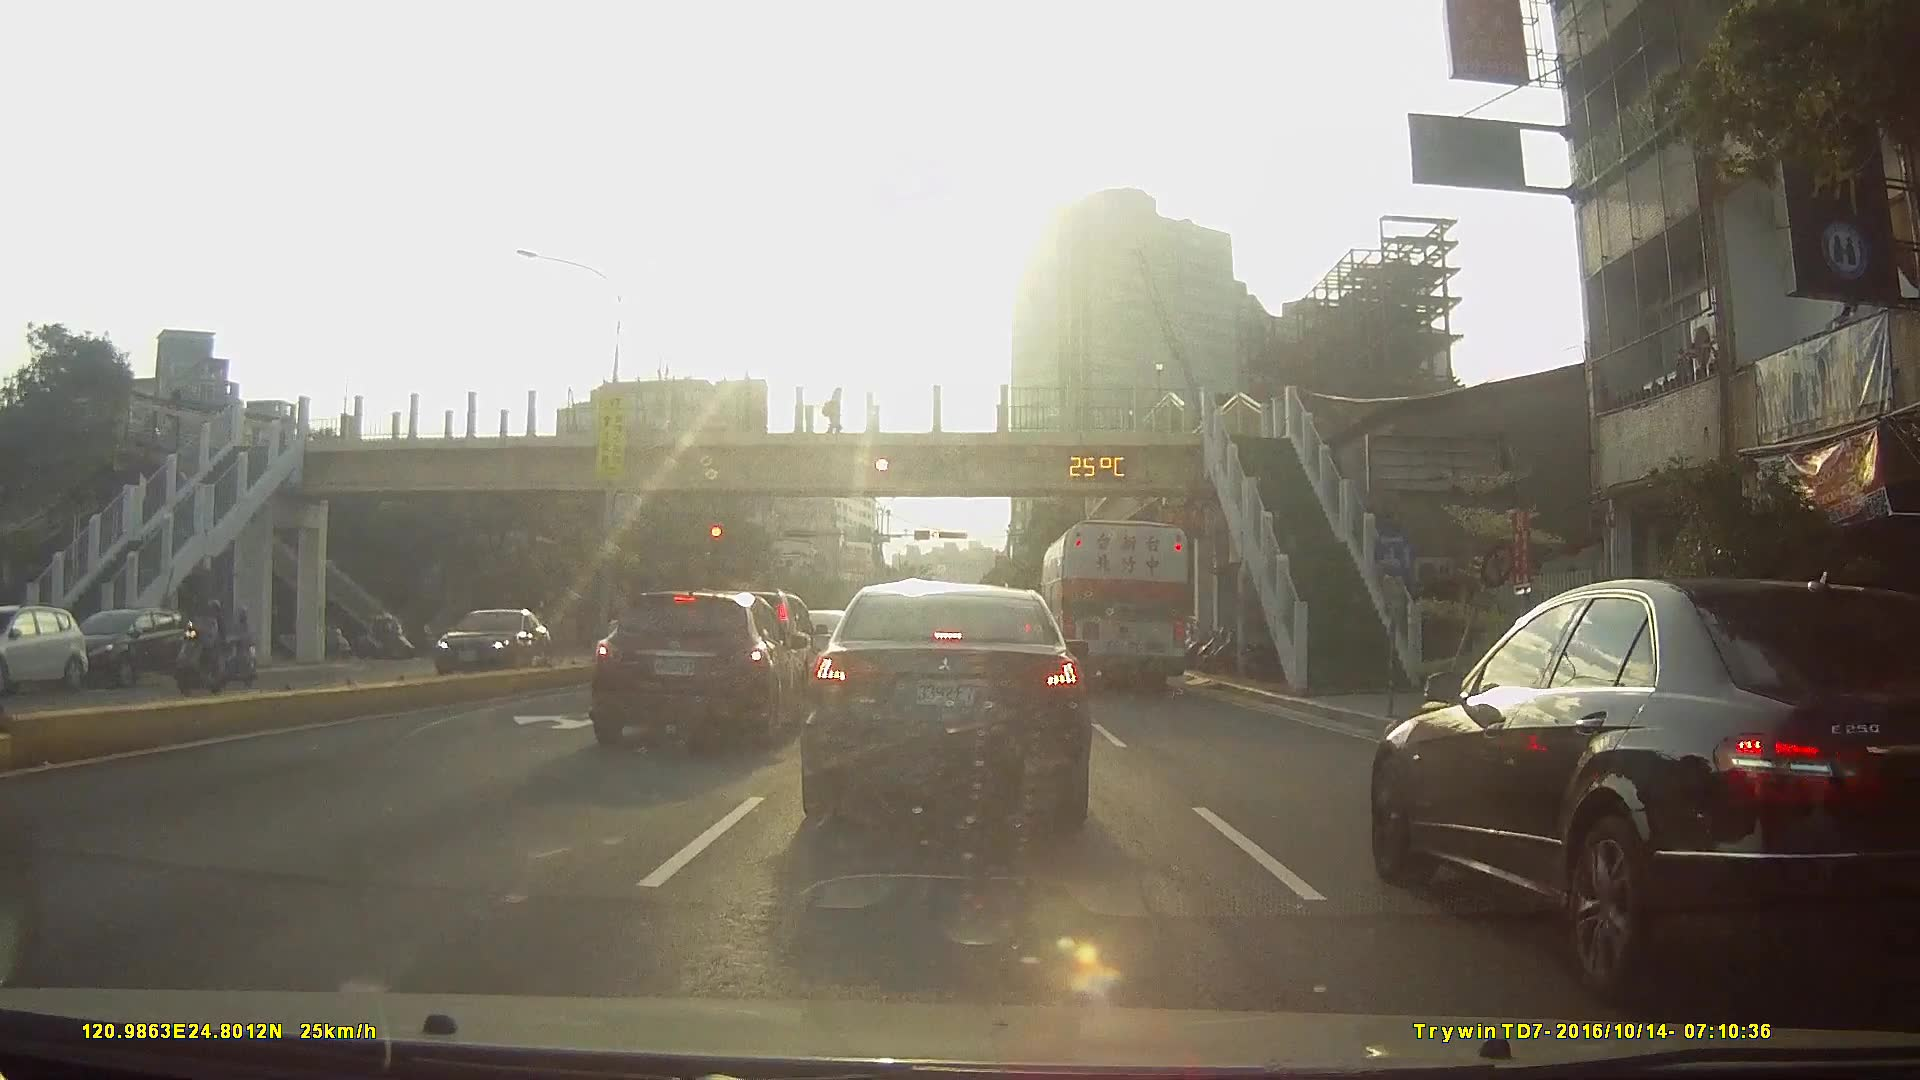pedestrian: (823, 387, 845, 435)
rider: (172, 596, 227, 696), (211, 607, 262, 687), (356, 613, 424, 662)
vehicle: (1364, 575, 1920, 990), (798, 578, 1092, 824), (584, 584, 809, 748), (1038, 517, 1193, 695), (62, 608, 196, 690), (422, 606, 548, 674), (0, 601, 87, 693)
